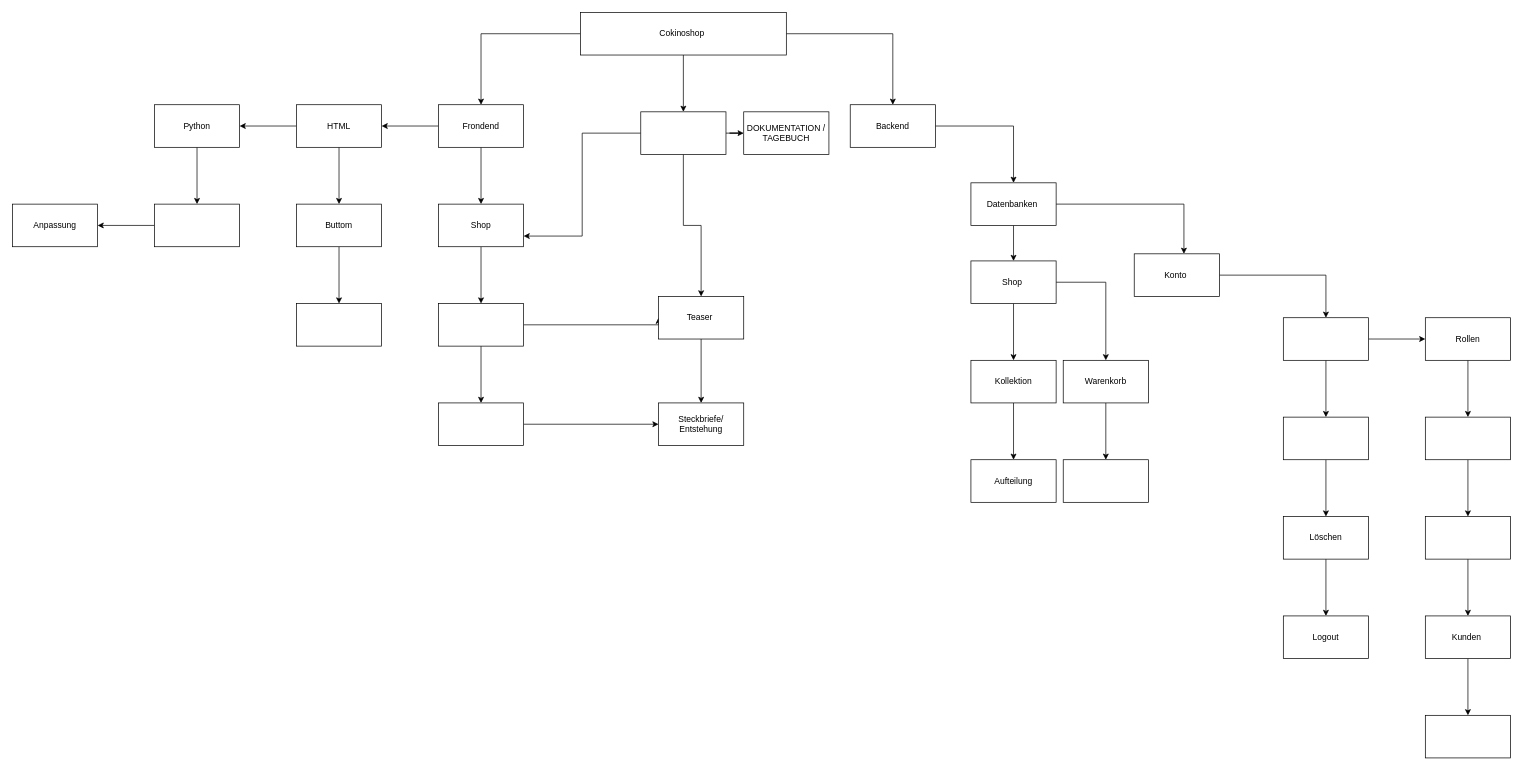
This 1523x770 diagram has some shape labels left out. The centre of each missing label's shape, as x and y in pixels:
"Admin/Inhaber" belongs at (x=1468, y=438).
"Bilder" belongs at (x=339, y=324).
"checkout" belongs at (x=1105, y=480).
"Erstellen" belongs at (x=1326, y=338).
"Gast" belongs at (x=1468, y=736).
"Kreativ" belongs at (x=683, y=132).
"Leiter" belongs at (x=1468, y=537).
"Neuheiten" belongs at (x=481, y=324).
"Struktur" belongs at (x=197, y=225).
"Ändern" belongs at (x=1326, y=438).
"Über Uns" belongs at (x=481, y=424).
